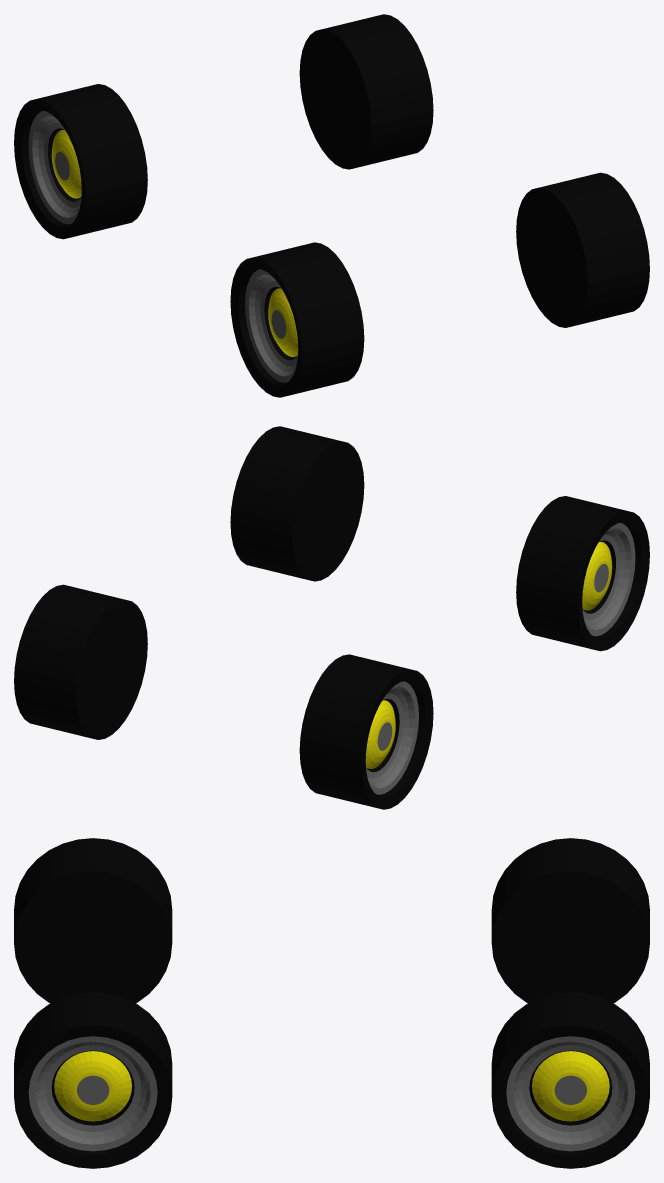
Rendered from Rodas.fbx.
3 renders of one model, top to bottom at view 1: azimuth 30°, elevation 25°; view 2: azimuth 150°, elevation 25°; view 3: azimuth 270°, elevation 25°, orthographic. The views are drawn at different scales.
Visible parts, largest first — view 1: rodas, rodas.002, rodas.003, rodas.001; view 2: rodas.001, rodas.003, rodas.002, rodas; view 3: rodas, rodas.001, rodas.002, rodas.003.
Part boxes in pixels (left/top/right/bottom): rodas: left=516, top=172, right=649, bottom=327; rodas.002: left=14, top=84, right=147, bottom=239; rodas.003: left=230, top=242, right=364, bottom=397; rodas.001: left=299, top=14, right=433, bottom=169; rodas.001: left=14, top=584, right=147, bottom=739; rodas.003: left=516, top=496, right=649, bottom=651; rodas.002: left=299, top=654, right=433, bottom=809; rodas: left=230, top=426, right=364, bottom=581; rodas: left=14, top=992, right=172, bottom=1168; rodas.001: left=491, top=992, right=649, bottom=1168; rodas.002: left=491, top=838, right=649, bottom=1003; rodas.003: left=14, top=838, right=172, bottom=1003.
Bounding box in the file's own units: 164 × 58.69 × 236.
